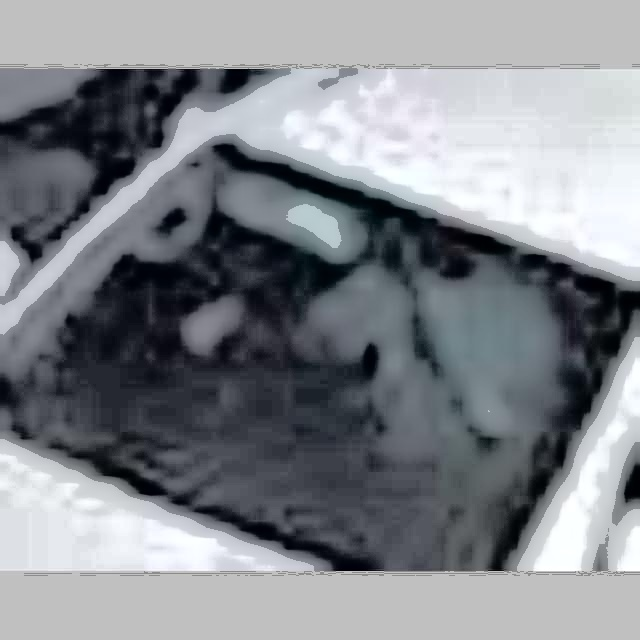pakai: (274, 197, 539, 490)
